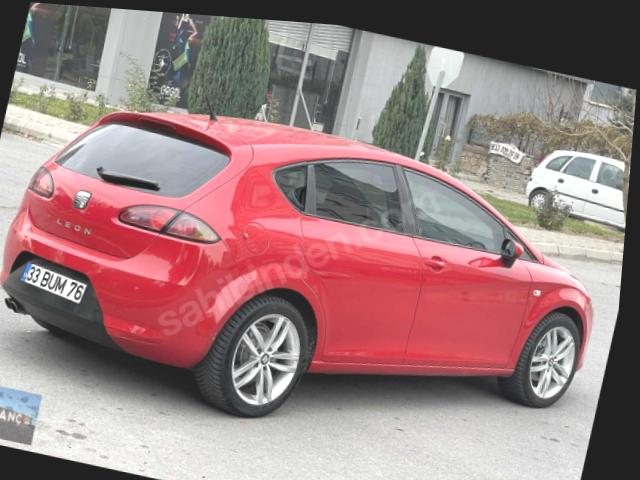plaka: (22, 262, 87, 303)
